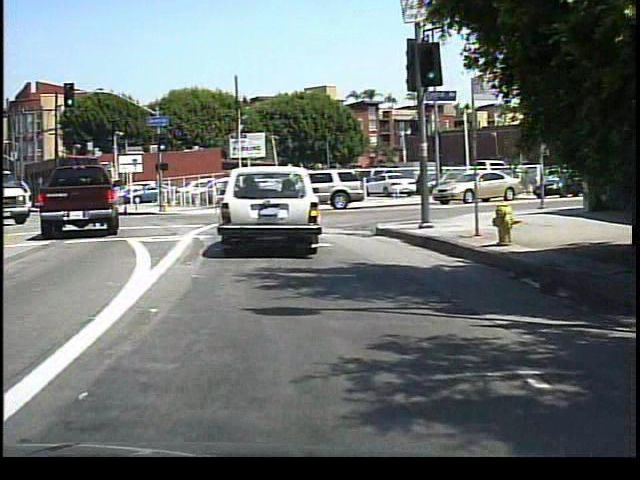person: (413, 163, 432, 204)
